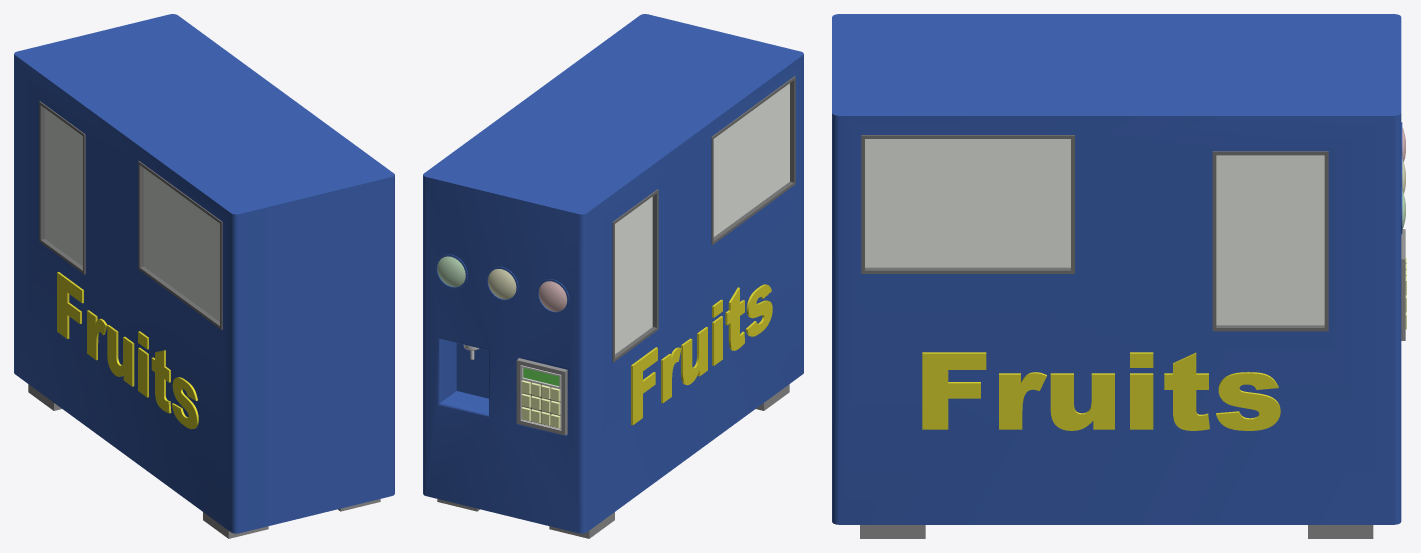
The model's file is Juice.fbx.
3 renders of one model, left to right at view 1: azimuth 30°, elevation 25°; view 2: azimuth 150°, elevation 25°; view 3: azimuth 270°, elevation 25°, orthographic. The views are drawn at different scales.
Parts seen in each view (by area): view 1: Juicer_LOD0; view 2: Juicer_LOD0; view 3: Juicer_LOD0.
Boxes of the visible parts, left/top/right/bottom form: Juicer_LOD0: left=14, top=14, right=394, bottom=538; Juicer_LOD0: left=423, top=14, right=803, bottom=538; Juicer_LOD0: left=832, top=14, right=1406, bottom=538.
Size of what is drawn, in the model's own units: 233 by 542 by 444.
